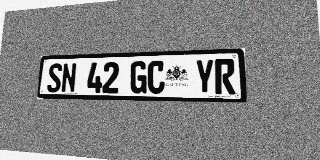2: (102, 62, 119, 93)
4: (87, 62, 103, 93)
C: (147, 60, 165, 94)
G: (130, 61, 147, 94)
N: (61, 63, 77, 93)
R: (215, 59, 236, 95)
S: (47, 63, 62, 93)
Y: (195, 59, 214, 94)
